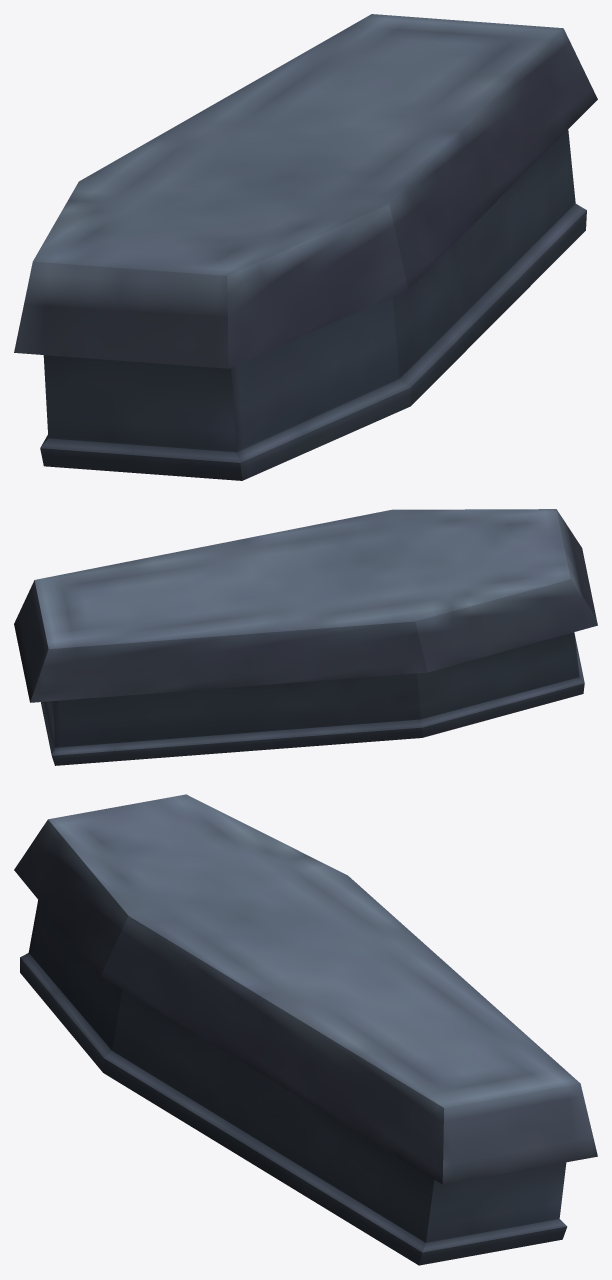
The model's file is Area06_4.fbx.
3 views of the same model, one above another, from view 1: azimuth 30°, elevation 25°; view 2: azimuth 150°, elevation 25°; view 3: azimuth 270°, elevation 25° (orthographic). The views are drawn at different scales.
Parts seen in each view (by area): view 1: Area06_4; view 2: Area06_4; view 3: Area06_4.
Part boxes in pixels (box(x1,y1,x2,y2)): Area06_4: box(14, 14, 597, 480); Area06_4: box(14, 509, 597, 765); Area06_4: box(14, 794, 597, 1265).
Size of the model in its own units: 333 by 122 by 277.
